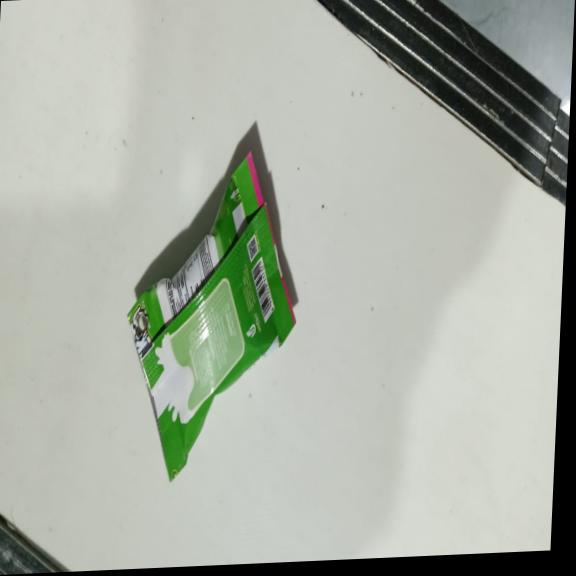Plastik: (117, 143, 305, 485)
